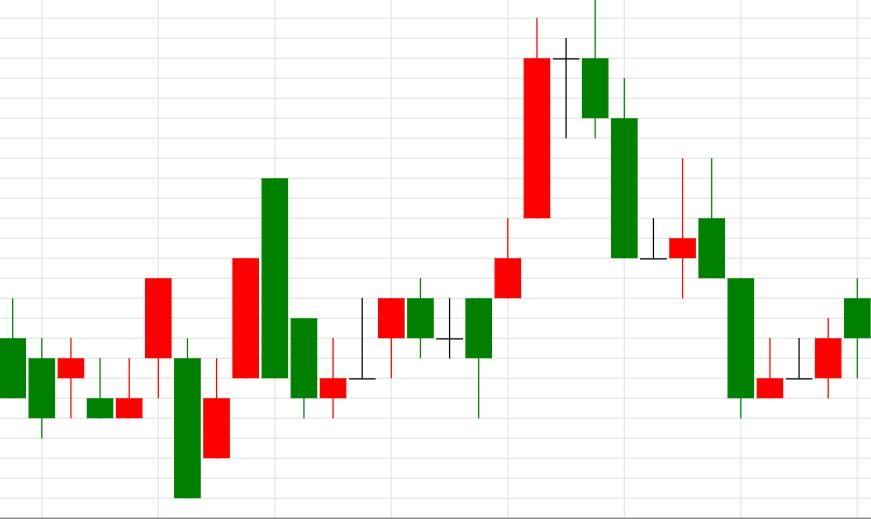bearish_engulfing_fall: (173, 177, 288, 498)
evening_star_fall: (465, 0, 610, 419)
inverse_hammer_rise: (697, 157, 784, 419), (0, 297, 145, 439)
